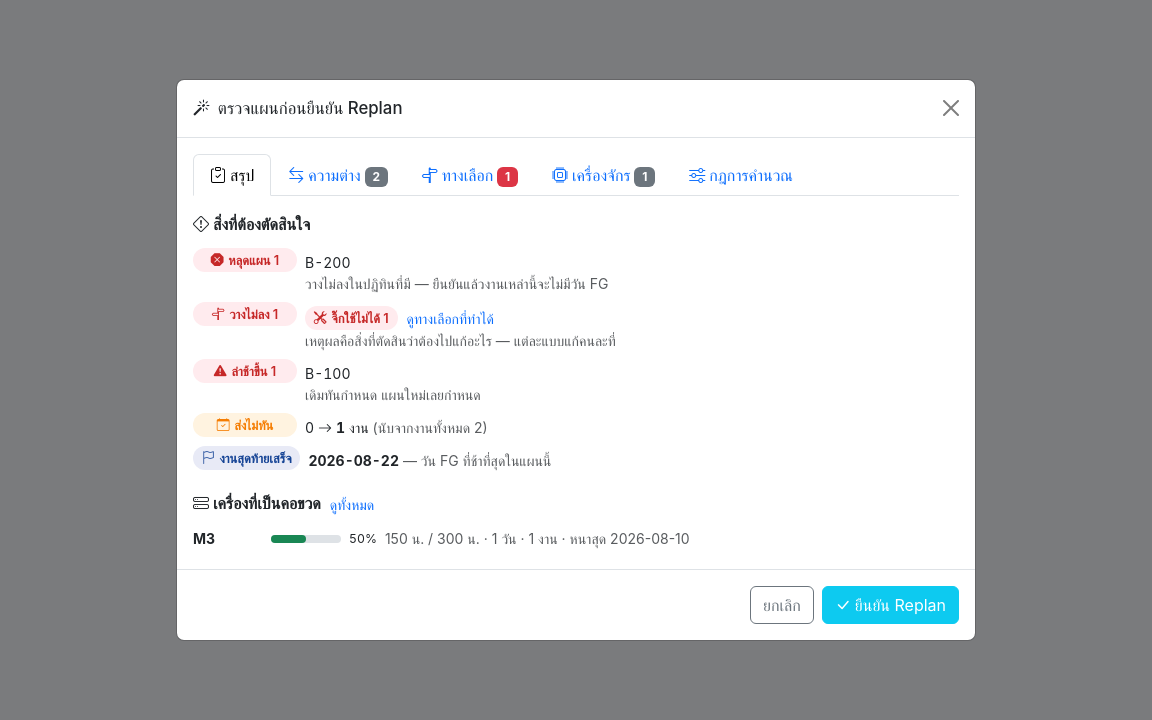
Test: แท็บทางเลือก › มีงานหลุด → แท็บโผล่พร้อมจำนวน และบอกเหตุผล/ขั้นตอน/เครื่องทางเลือก
Click the tab "ทางเลือก 1". click: coordinates (470, 175)
box: [405,154,535,196]
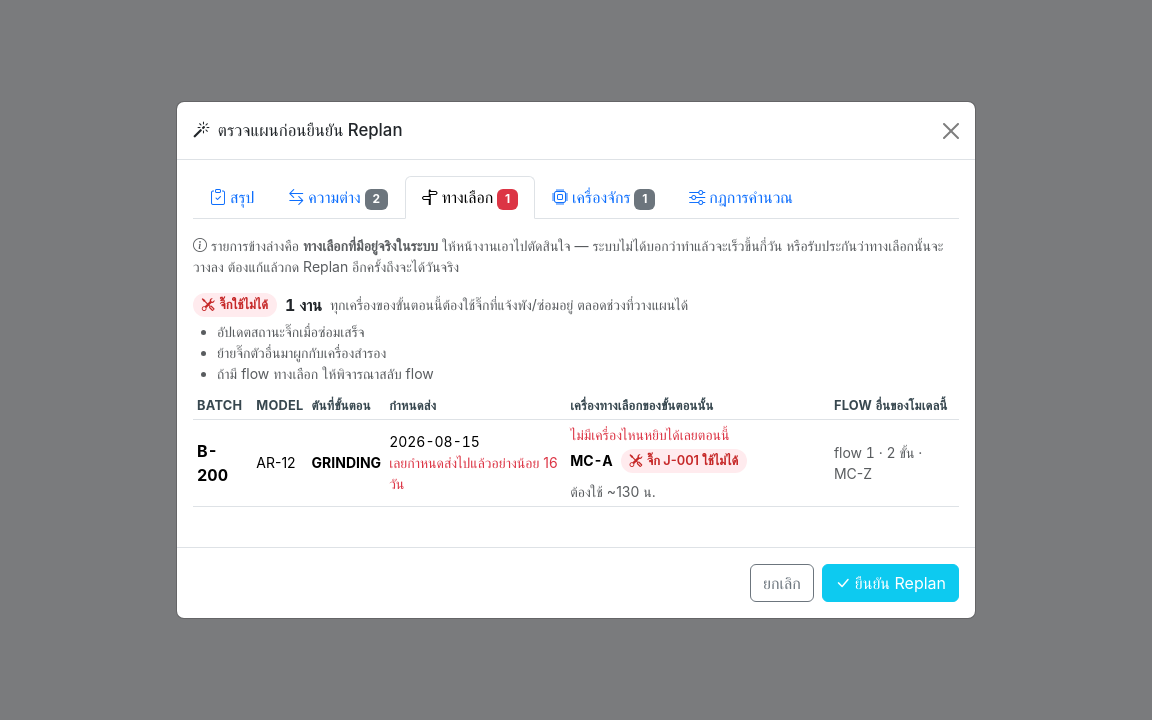
Now the text "GRINDING" is shown, box [312,454,381,471]
Now the text "จิ๊ก J-001 ใช้ไม่ได้" is shown, box [621,449,747,473]
Now the text "flow 1" is shown, box [834,444,875,461]
